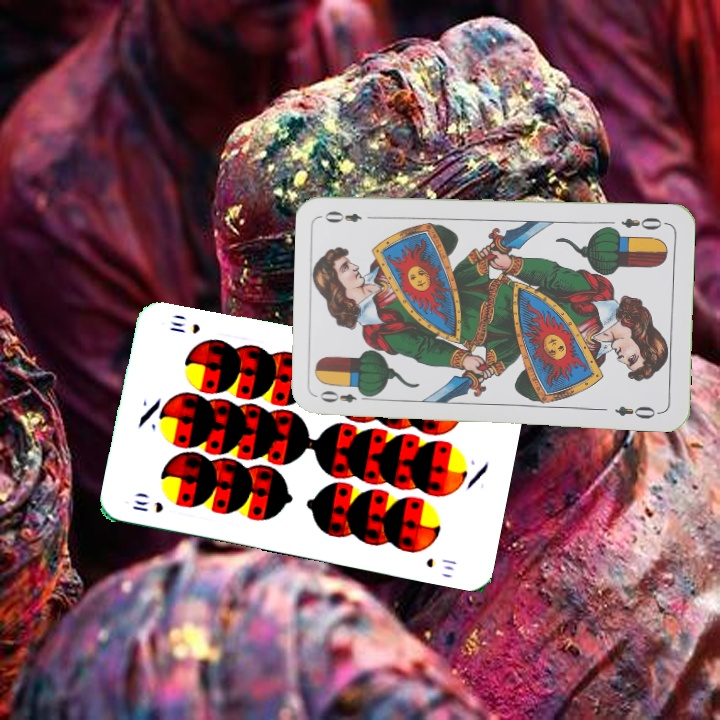EO: (316, 387, 374, 405), (617, 213, 669, 233)
S10: (128, 496, 166, 516)
